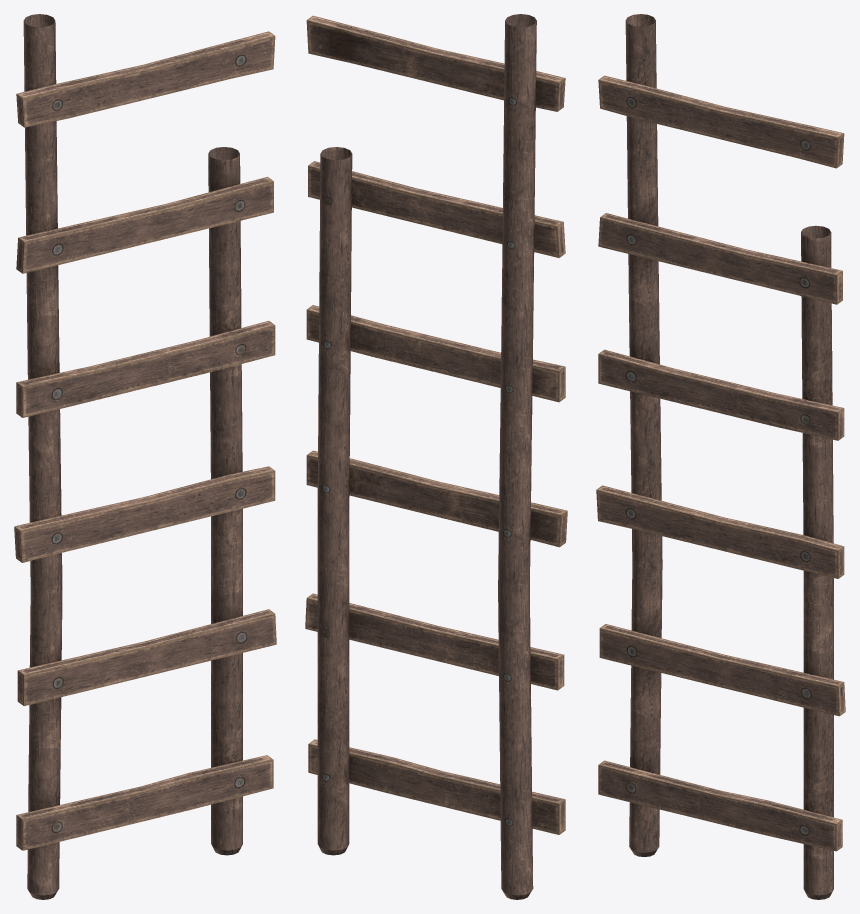
The model's file is BottomLadder.fbx.
3 renders of one model, left to right at view 1: azimuth 30°, elevation 25°; view 2: azimuth 150°, elevation 25°; view 3: azimuth 330°, elevation 25°, orthographic. The views are drawn at different scales.
Visible parts, largest first — view 1: ladder; view 2: ladder; view 3: ladder.
Part boxes in pixels (x1,y1,x2,y2): ladder: (14, 14, 276, 899); ladder: (305, 14, 567, 899); ladder: (596, 14, 845, 899).
Size of the model in its own units: 67.12 by 219 by 9.92.
Materials: 1 (1 with a texture image).
